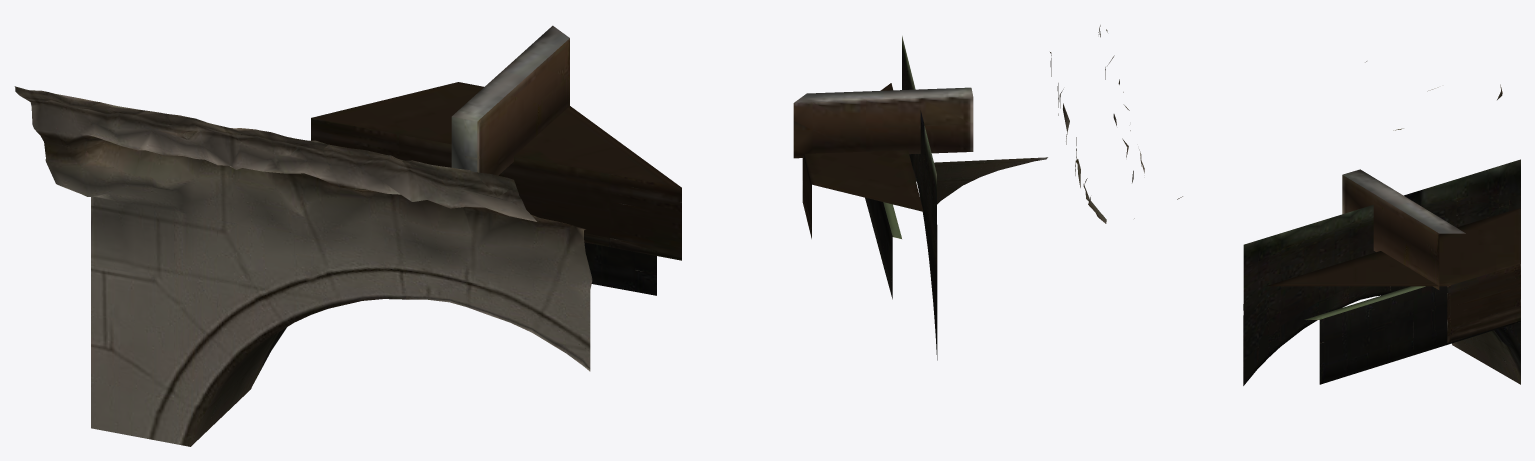
The picture shows the model from 3 angles, left to right: view 1: azimuth 30°, elevation 25°; view 2: azimuth 150°, elevation 25°; view 3: azimuth 270°, elevation 25°; orthographic projection. The views are drawn at different scales.
Bounding box in the file's own units: 3.08 × 2.11 × 2.34.
Materials: 1 (1 with a texture image).
